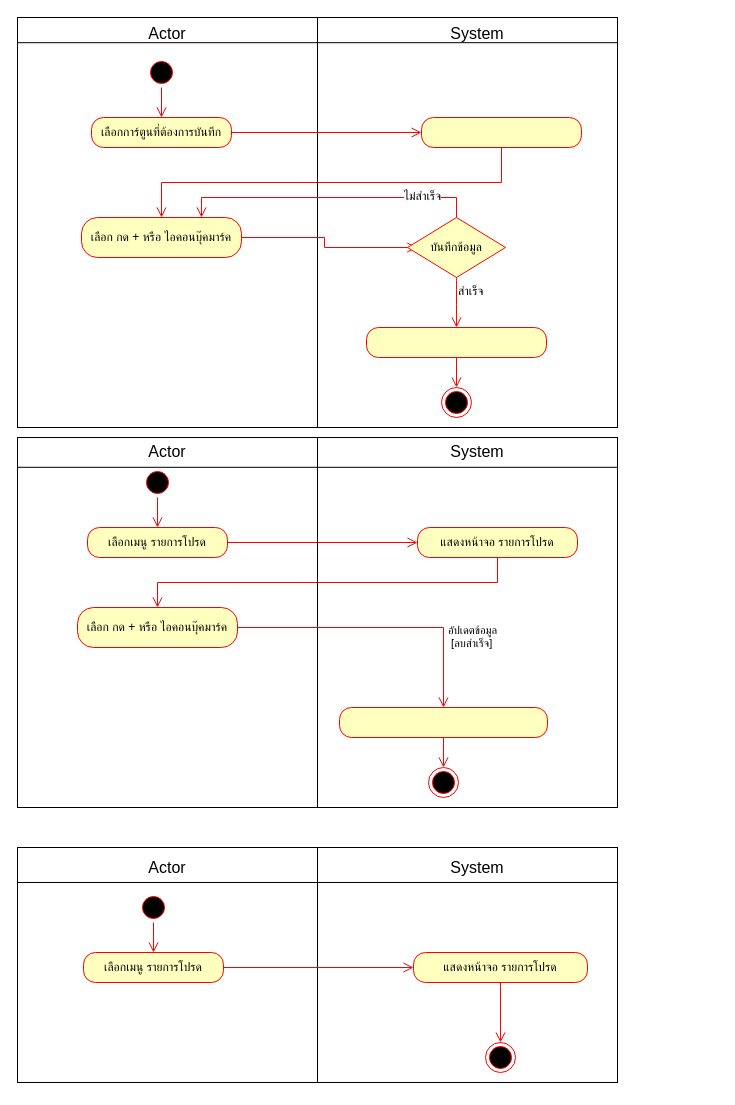
Some shapes in this 735 by 1105 pixel diagram are drawn without their labels. Each missing label, with the box of its shape:
แสดงข้อความ "จัดเก็บเรียบร้อย": (366, 326, 546, 358)
แสดงข้อความ "ลบออกจากรายการโปรด": (338, 706, 548, 738)
แสดงหน้าจอ การ์ตูนที่เลือก: (420, 116, 582, 148)
